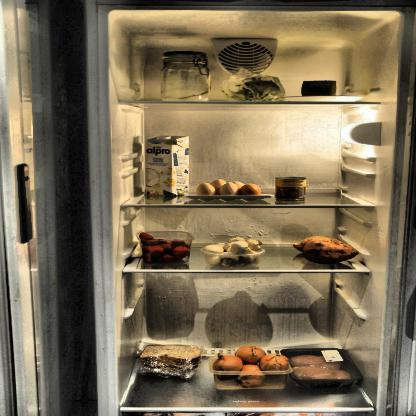cheese: (298, 80, 340, 97)
chicken: (287, 348, 361, 386)
corn: (274, 177, 310, 204)
eggs: (194, 177, 267, 199)
green_beans: (226, 75, 286, 101)
milk: (142, 134, 192, 203)
mushrooms: (202, 236, 263, 268)
onion: (211, 345, 290, 387)
strawberries: (139, 233, 189, 264)
sweet_potato: (292, 237, 364, 264)
